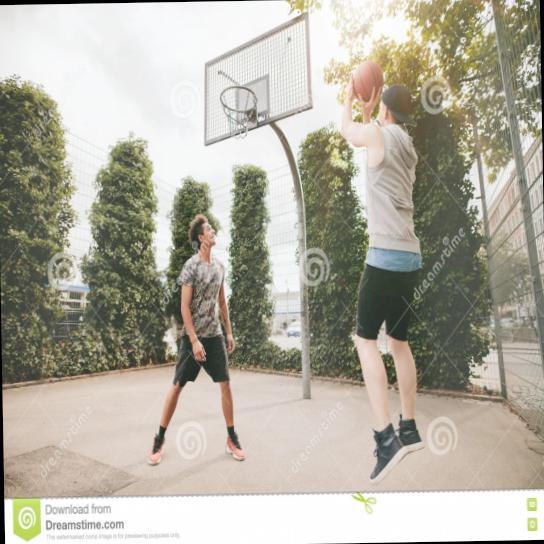basketball-hoop: (219, 84, 259, 139)
